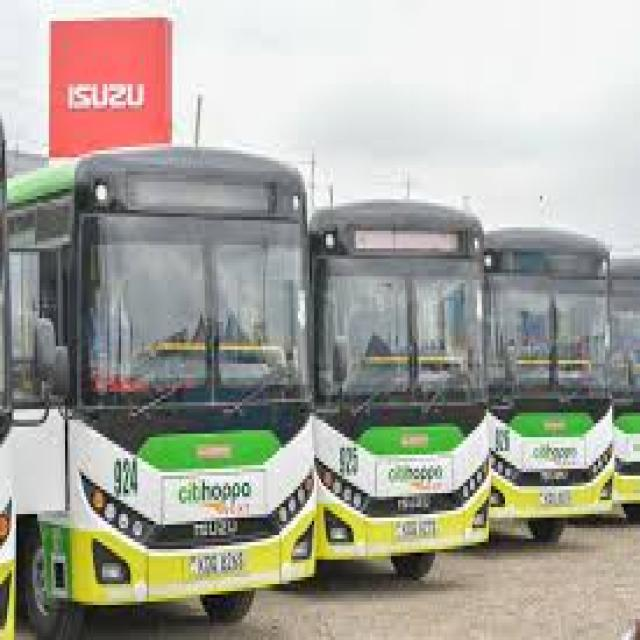bus: (0, 25, 315, 628), (313, 110, 492, 633)
